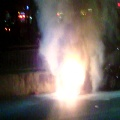fire: (51, 53, 85, 102)
